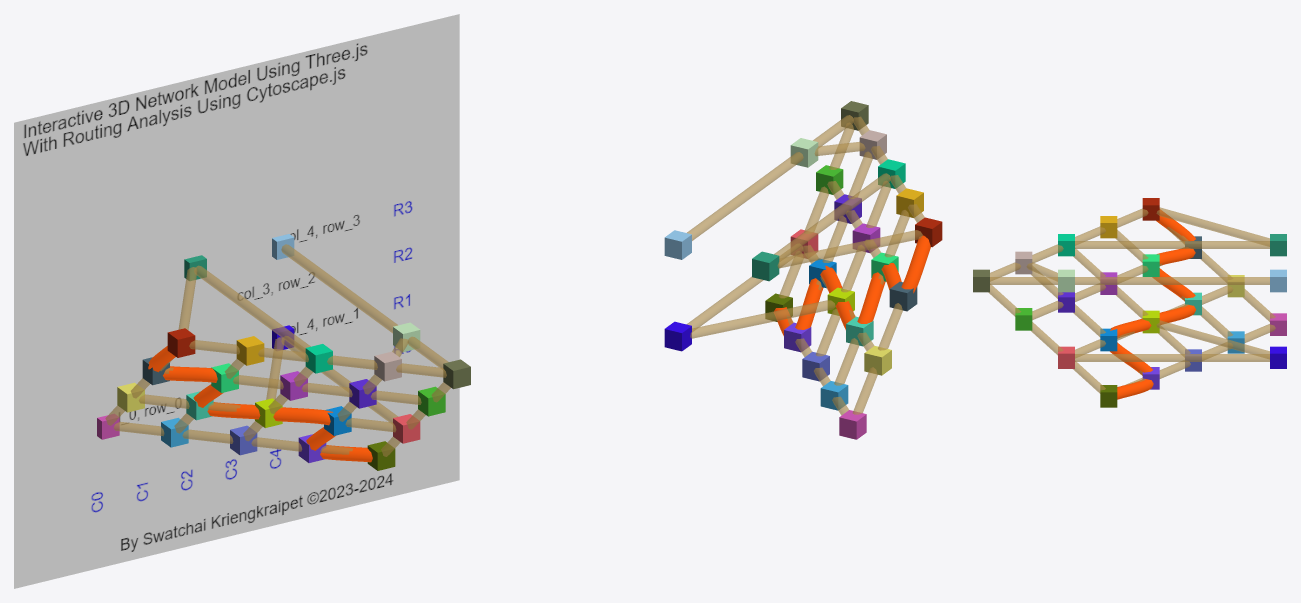
Rendered from threejs_scene2.gltf.
3 views of the same model, side by side, from view 1: azimuth 30°, elevation 25°; view 2: azimuth 150°, elevation 25°; view 3: azimuth 270°, elevation 25° (orthographic). The views are drawn at different scales.
Bounding box in the file's own units: 10.2 × 10.2 × 7.4.
Materials: 64 (1 with a texture image).
